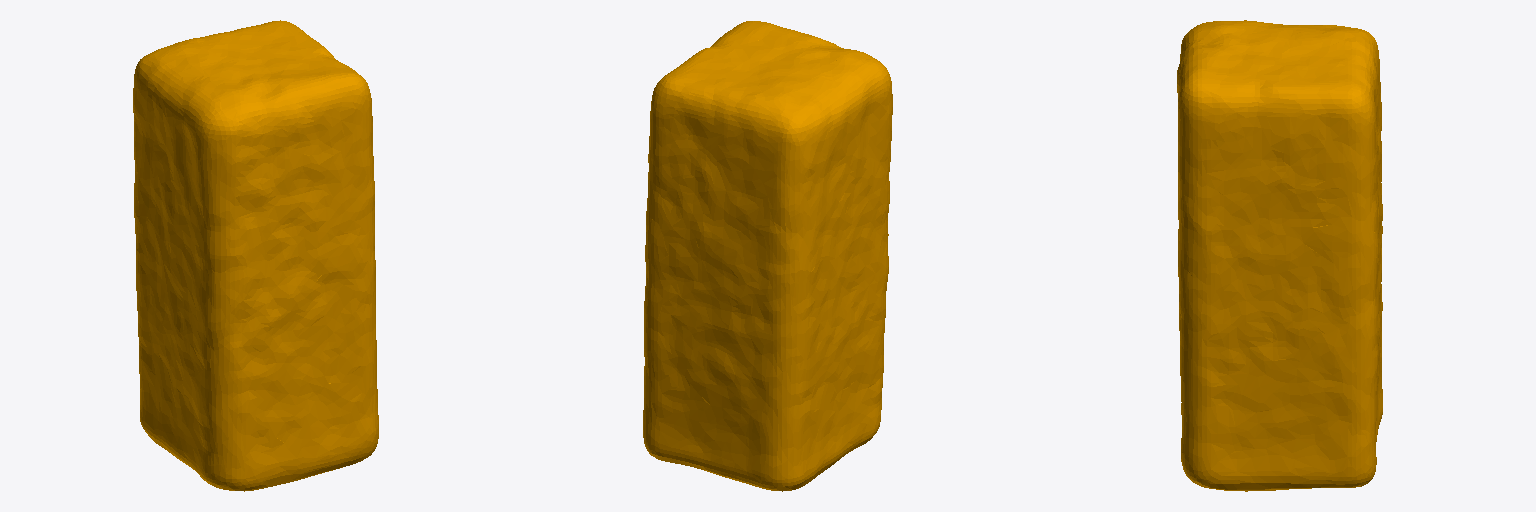
URDF robot description (036_wood_block):
<?xml version="1.0"?>
<robot name="036_wood_block">
  <link name="base_link">
    <inertial>
      <origin xyz="0.021452 0.014108 0.106364" rpy="0 0 0" />
      <mass value="1.560796" />
      <inertia ixx="0.00610359" ixy="-0.00000807" ixz="0.00010727"
               iyy="0.00607470" iyz="0.00001981" izz="0.00200955" />
    </inertial>
    <visual>
      <geometry><mesh filename="036_wood_block.stl" scale="1.0 1.0 1.0" /></geometry>
    </visual>
    <collision>
      <geometry><mesh filename="036_wood_block_col.obj" scale="1.0 1.0 1.0" /></geometry>
    </collision>
    <contact>
      <lateral_friction value="1.0"/>
    </contact>
  </link>
</robot>

--- Facts derived from the render (not from the file) ---
The picture shows the robot from 3 angles, left to right: view 1: azimuth 30°, elevation 25°; view 2: azimuth 150°, elevation 25°; view 3: azimuth 270°, elevation 25°; orthographic projection.
Robot: 036_wood_block — 1 links, 0 joints (none); root link base_link; default pose: all joints at 0.
Visible links, largest first — view 1: base_link; view 2: base_link; view 3: base_link.
Link boxes in pixels (x1,y1,x2,y2): base_link: (133,20,378,491); base_link: (643,21,892,491); base_link: (1177,20,1382,491).
Bounding box of the posed robot: 0.0962 × 0.0944 × 0.2065 m (x, y, z).
1 mesh visuals loaded from 1 distinct referenced files (1 binary STL).
